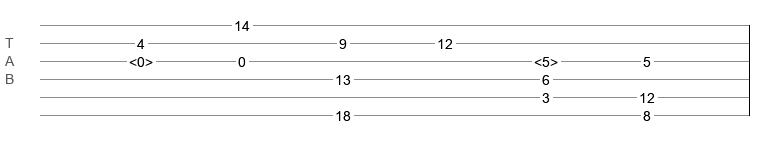0: (238, 54, 246, 64)
12: (437, 36, 453, 46), (639, 90, 655, 100)
13: (335, 72, 351, 82)
14: (234, 18, 250, 28)
18: (335, 108, 351, 118)
3: (542, 90, 550, 100)
4: (137, 36, 145, 46)
5: (643, 54, 651, 64)
6: (542, 72, 550, 82)
8: (643, 108, 651, 118)
9: (339, 36, 347, 46)
harmonic: (129, 54, 153, 64), (534, 54, 558, 64)
